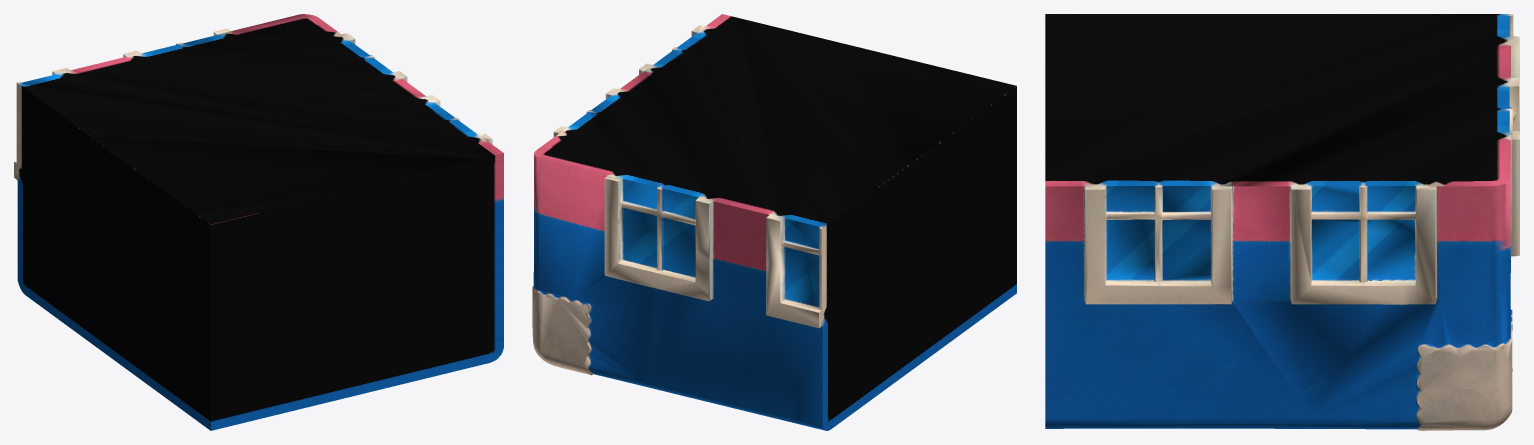
The model's file is 4-ground-floor-back-right.fbx.
3 views of the same model, side by side, from view 1: azimuth 30°, elevation 25°; view 2: azimuth 150°, elevation 25°; view 3: azimuth 270°, elevation 25° (orthographic). The views are drawn at different scales.
Parts seen in each view (by area): view 1: ground-floor-back-right; view 2: ground-floor-back-right; view 3: ground-floor-back-right.
Boxes of the visible parts, box(x1,y1,x2,y2) form: ground-floor-back-right: box(14, 14, 503, 430); ground-floor-back-right: box(532, 14, 1016, 430); ground-floor-back-right: box(1045, 14, 1519, 430).
Size of the model in its own units: 4819 by 3197 by 5497.
Materials: 1 (1 with a texture image).
